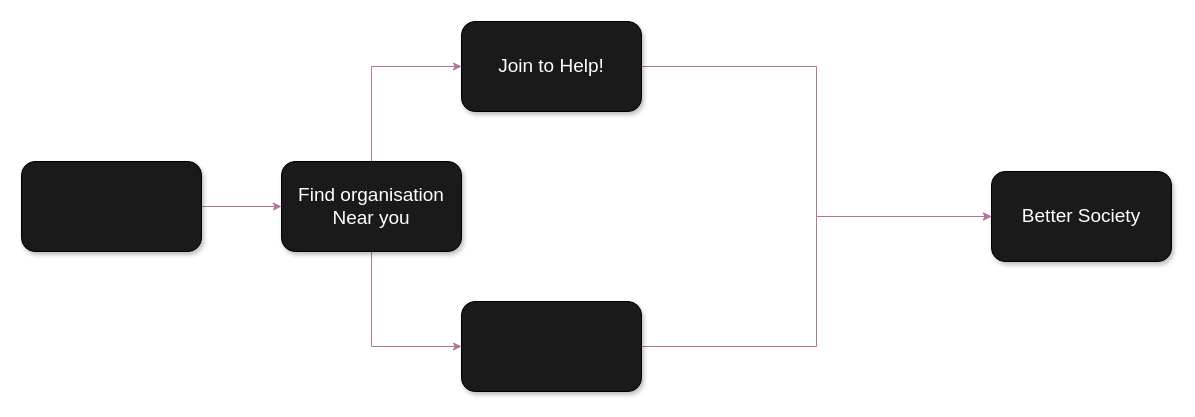
The diagram is 1195 pixels wide and 417 high, and some of its shapes have lost their labels. Here are the shapes that lost their labels. From the top down, the centre of each, then its label:
At [112,207]: "Discover Problems".
At [552,347]: "Start Volunteering Project".
